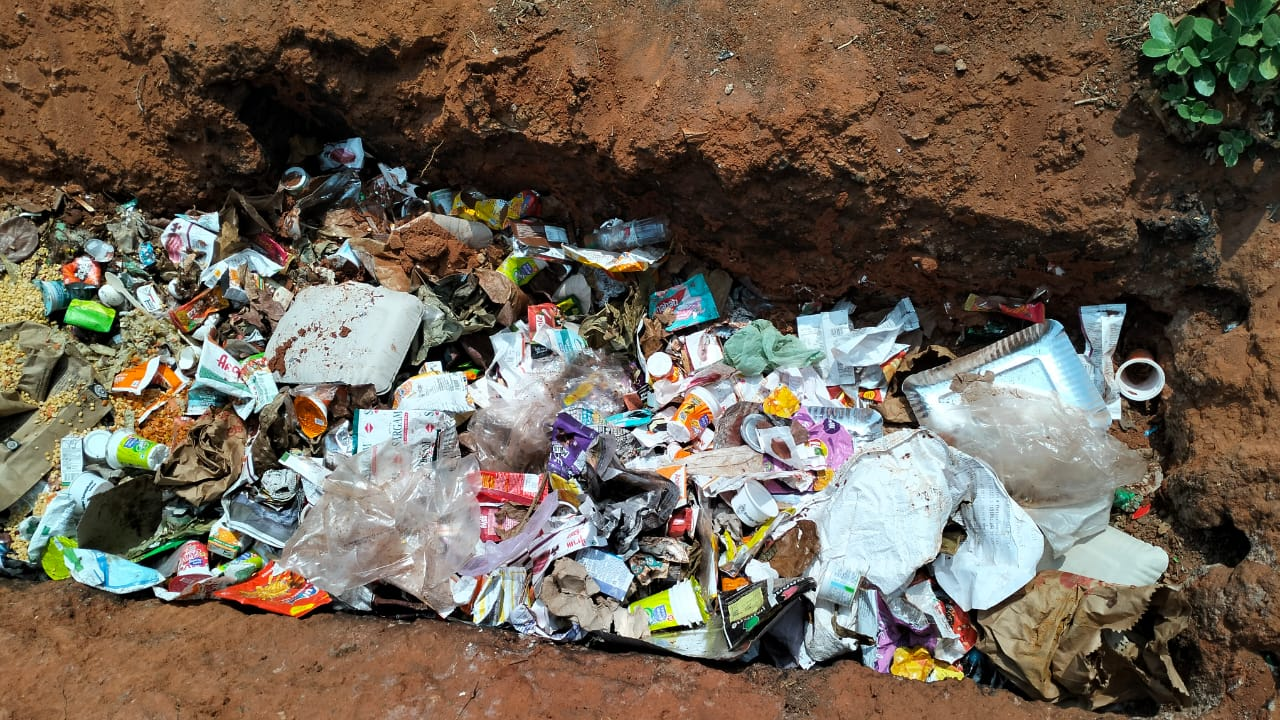waste: (16, 202, 1157, 676)
